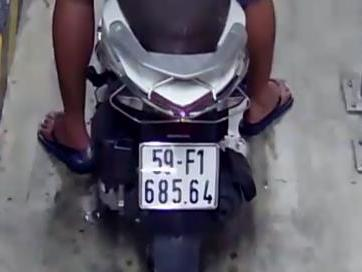num_plate: (142, 144, 218, 208)
